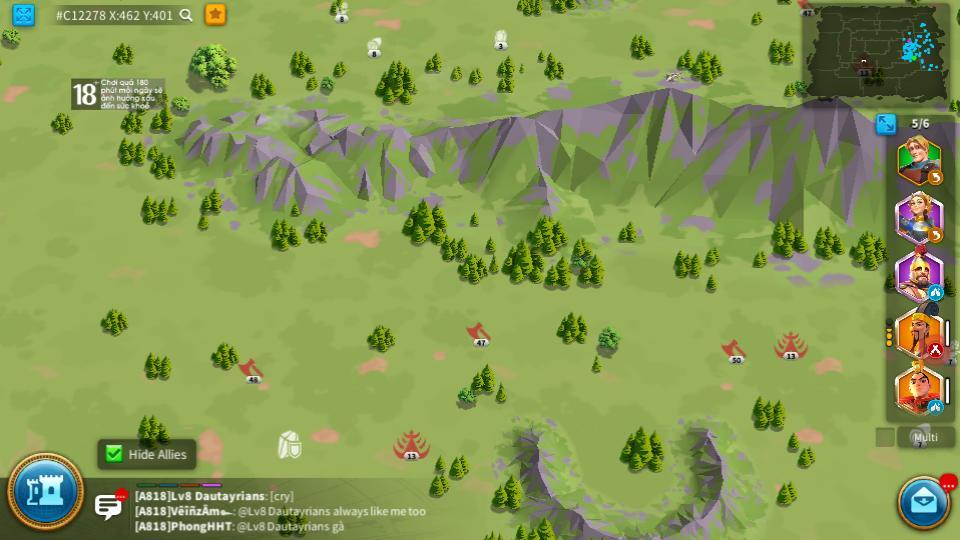march_attacking: (927, 345, 944, 357)
march_idle: (927, 401, 944, 413), (929, 286, 942, 299)
march_returning: (927, 170, 944, 185), (928, 230, 942, 242)
